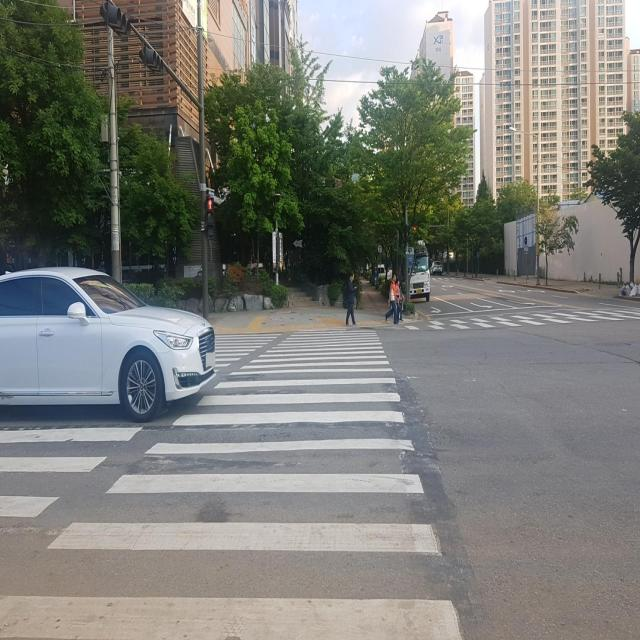빨간불: (206, 197, 214, 239)
횡단보도: (0, 320, 468, 640), (404, 309, 640, 331)
